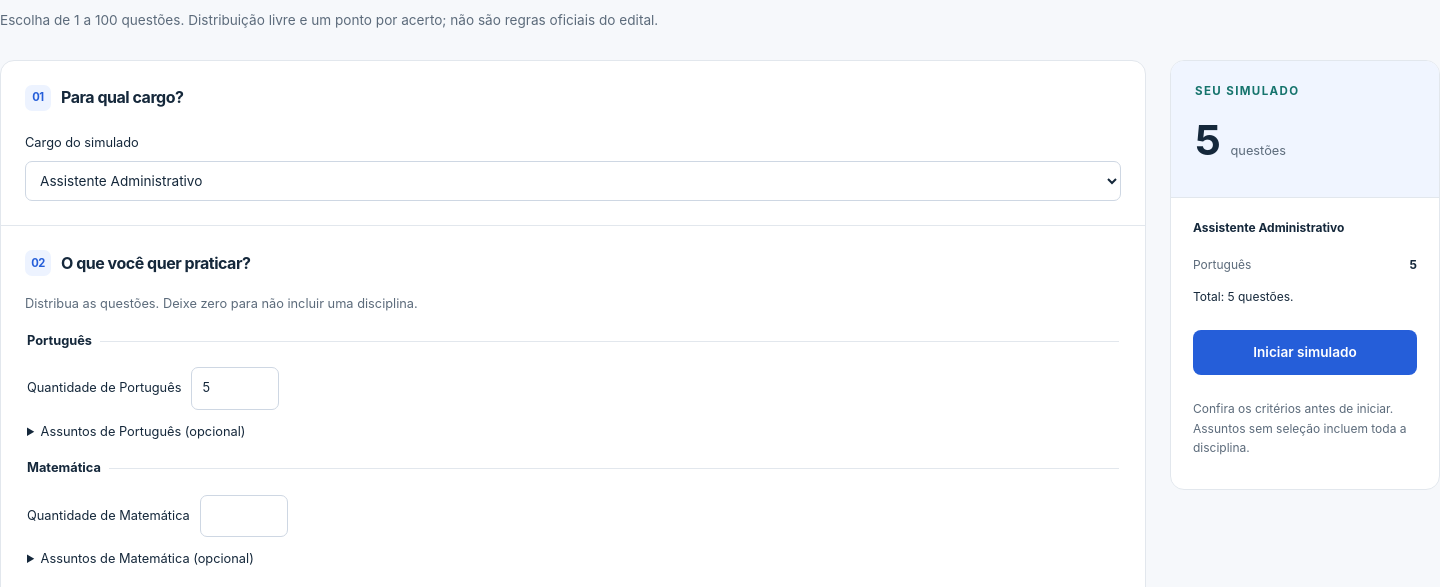
it: cancelar abandono preserva resposta local e comando; confirmar só abre composição
Click the button "Iniciar simulado" at (1305,353), box [1193,330,1417,376]
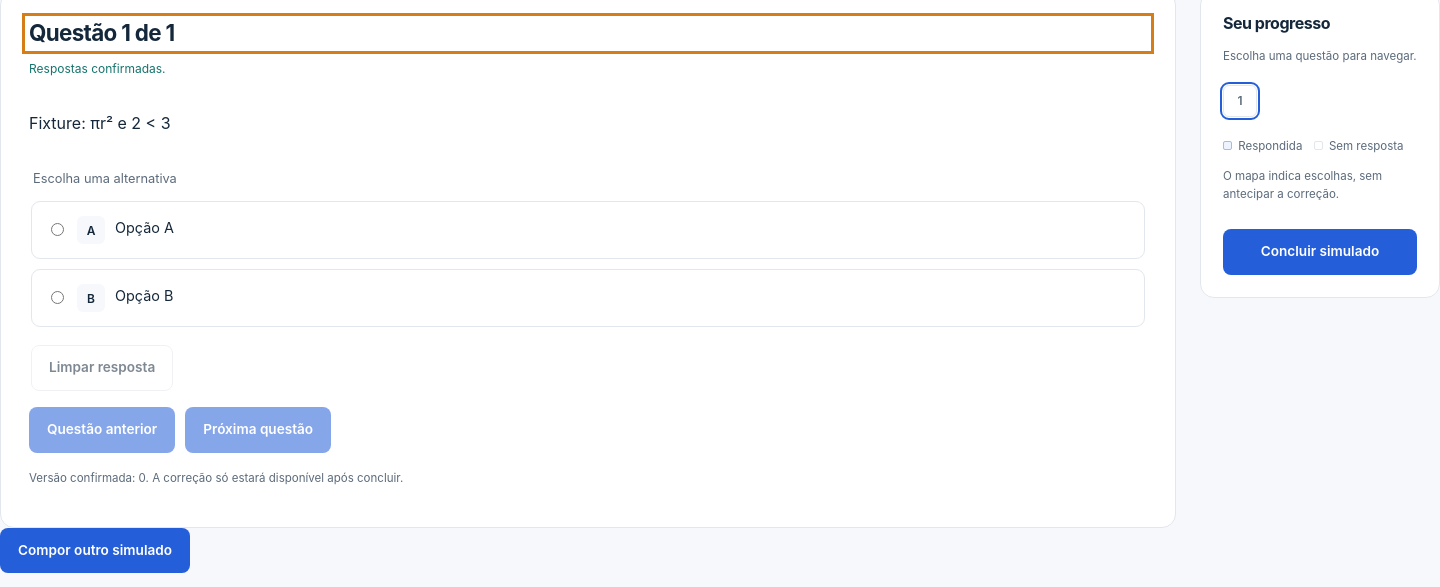
Click the radio button labelled "A Opção A" at (58,230), box [51,223,64,236]
(page scrolled)
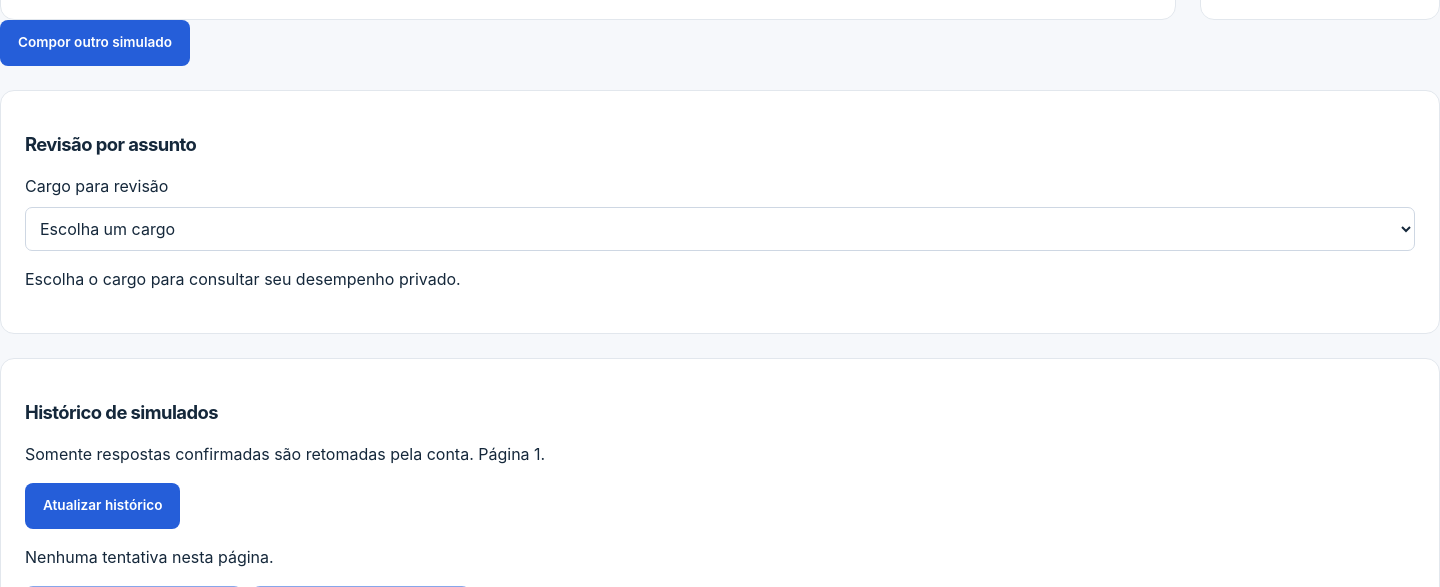
Select "Assistente Administrativo" in the dropdown labelled "Cargo para revisão" at (720,229), box [25,207,1415,251]
(page scrolled)
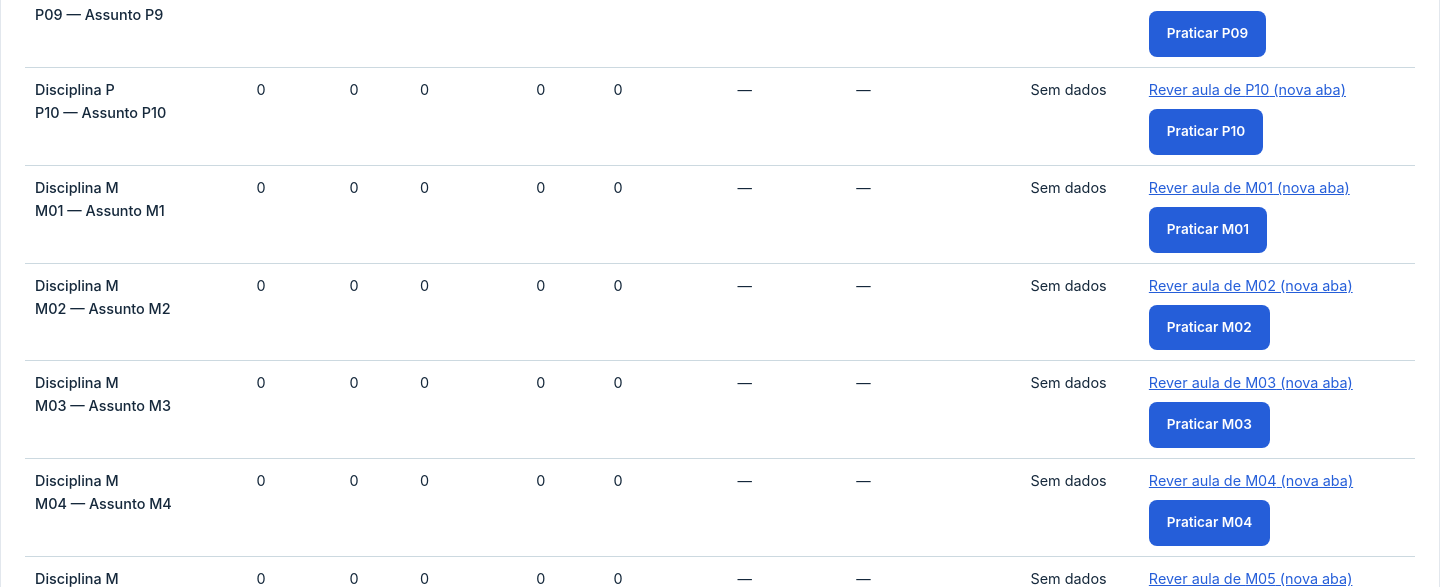
Click the button "Praticar M01" at (1208,230), box [1149,207,1267,253]
(page scrolled)
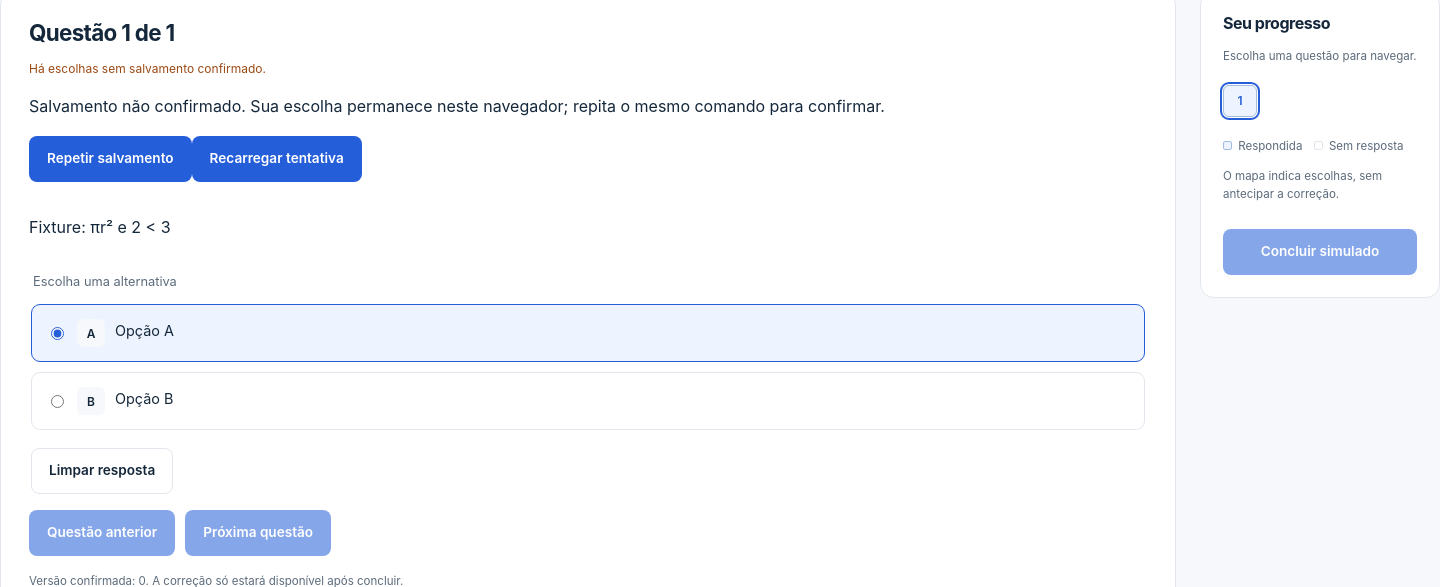
expect the text "Prática direcionada de" is not shown: met
expect the radio button labelled "A Opção A" is checked: met, box [51,327,64,340]
Click the button "Repetir salvamento" at (110,159), box [29,136,192,182]
(page scrolled)
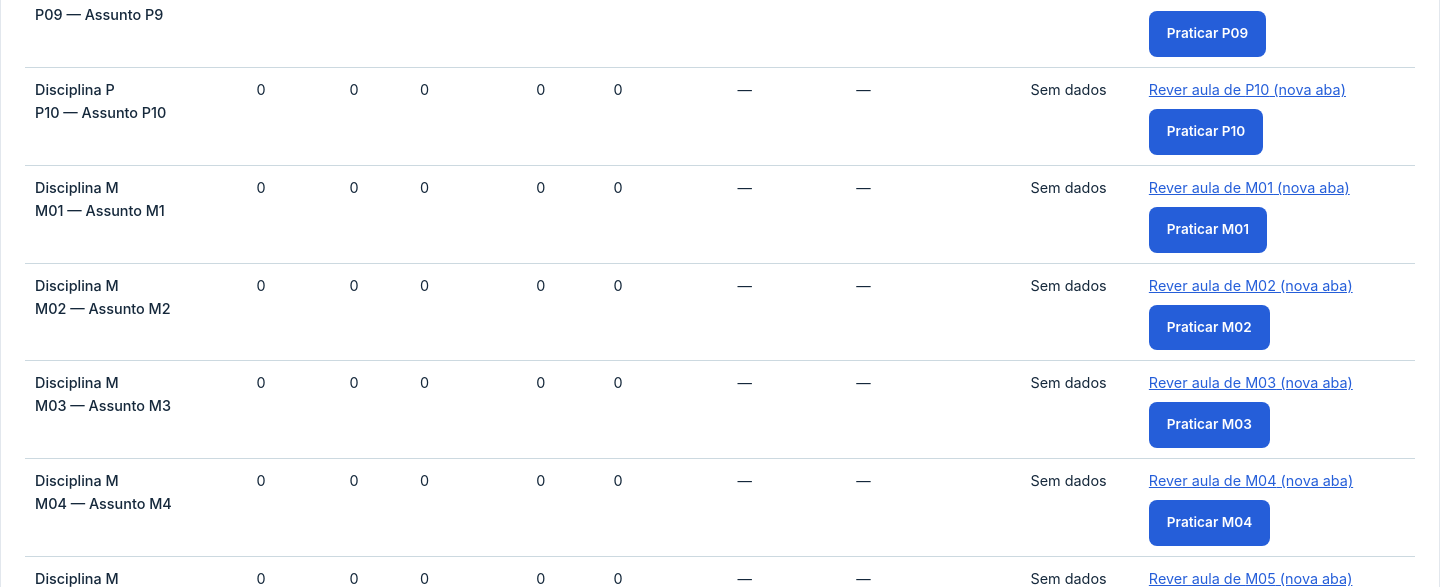
Click the button "Praticar M01" at (1208,230), box [1149,207,1267,253]
(page scrolled)
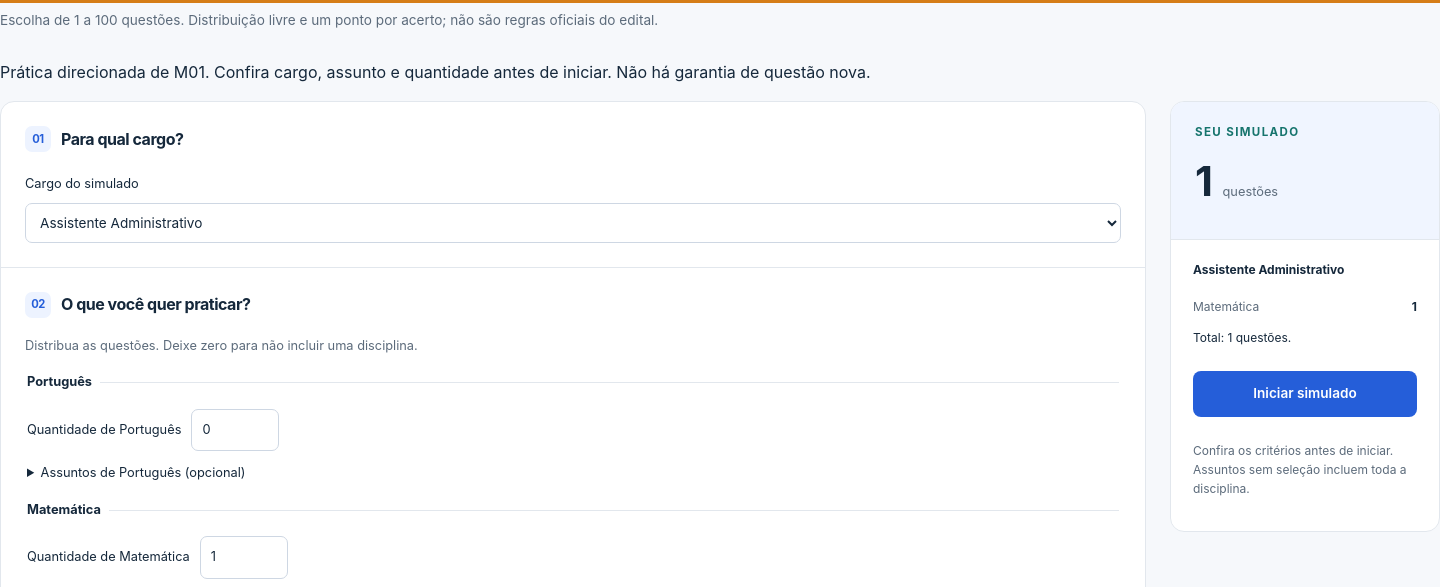
expect the text "Prática direcionada de M01" is shown: met, box [0,62,871,82]
